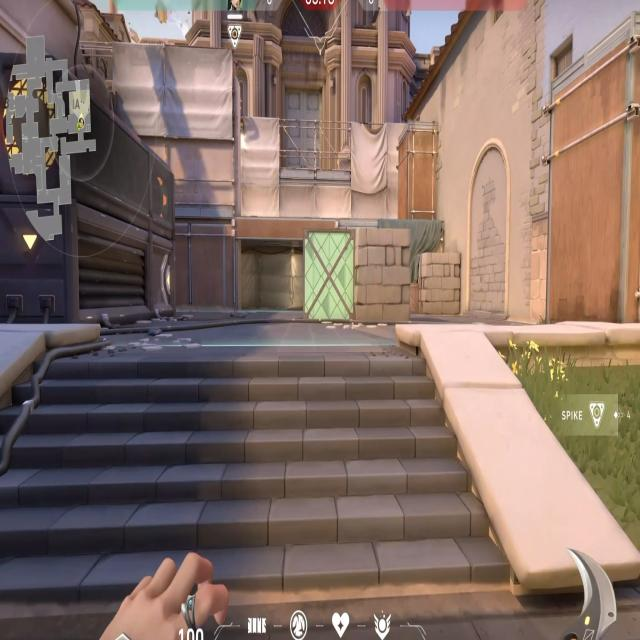A_Heaven_Box: (398, 122, 437, 219)
A_Heaven_Wall: (101, 41, 239, 208)
A_Hell: (219, 218, 351, 320)
A_Site_Box: (301, 229, 413, 321)
